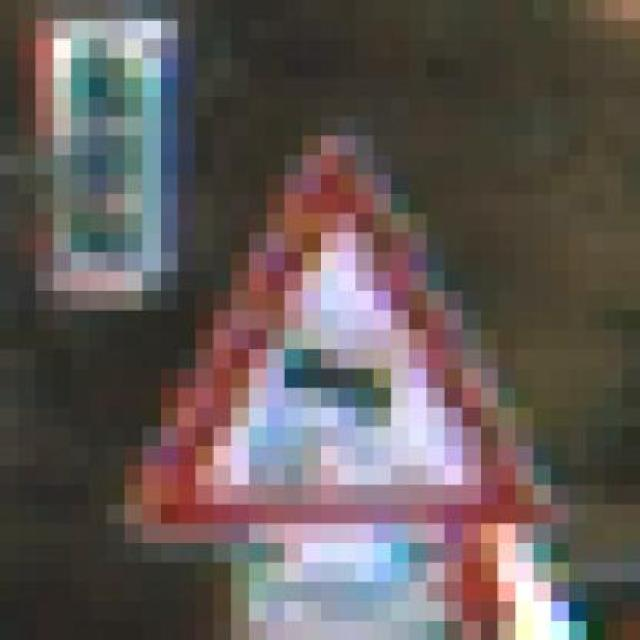Slippery Road Ahead: (106, 116, 569, 562)
